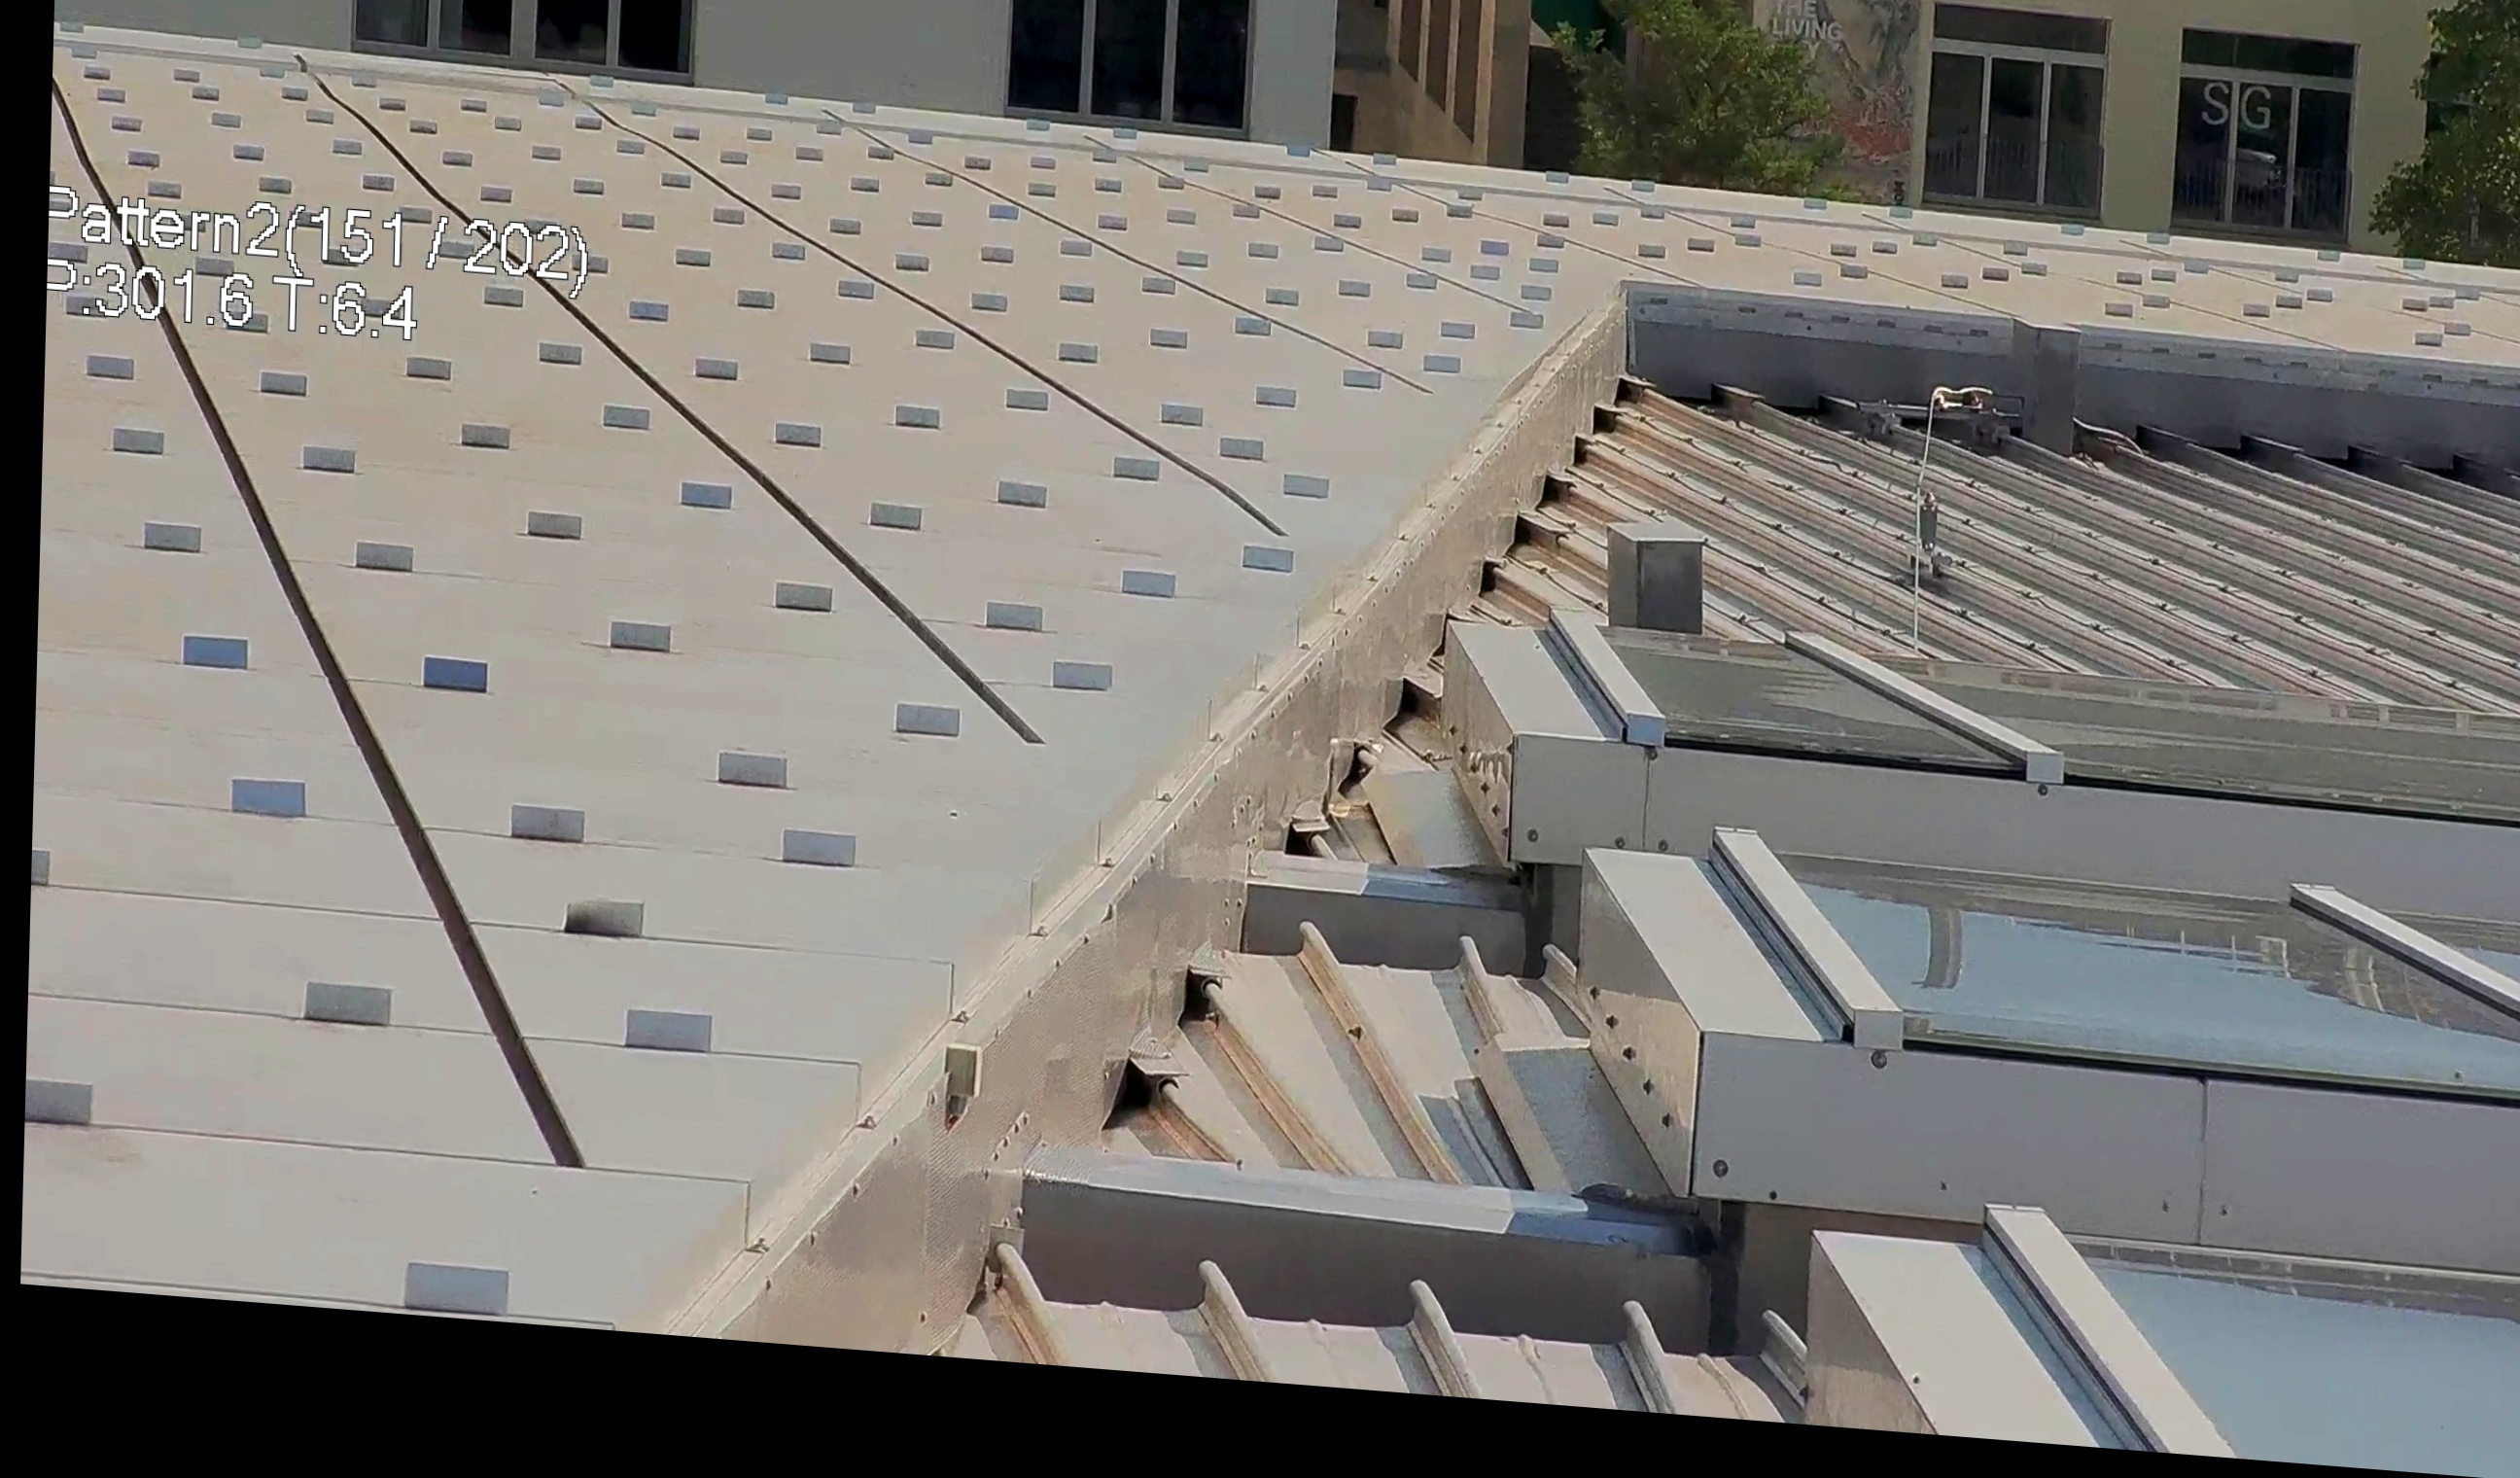Other: (1094, 1042, 1206, 1167)
